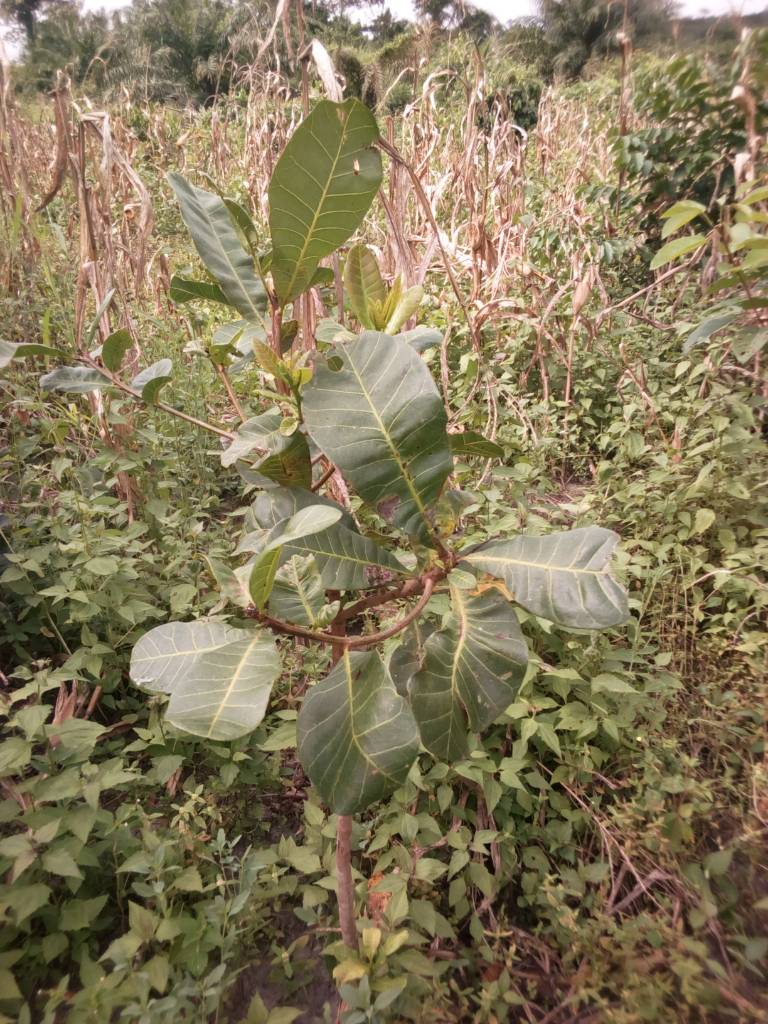Helopeltis anacardii: (307, 335, 452, 541), (411, 588, 525, 766), (296, 644, 411, 813), (168, 153, 266, 322), (475, 528, 624, 625)
